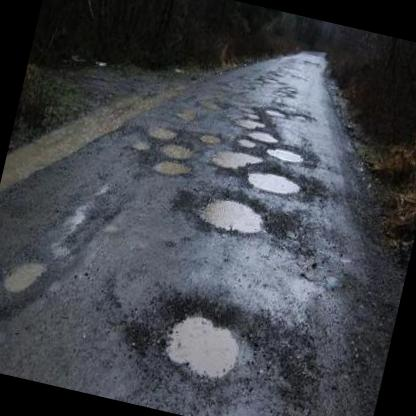pothole: (152, 292, 259, 386), (192, 187, 274, 242), (242, 162, 307, 201), (0, 251, 48, 297), (209, 142, 265, 178), (151, 154, 195, 182), (262, 140, 307, 166), (158, 140, 194, 162), (145, 121, 180, 142), (233, 114, 268, 132), (245, 127, 278, 145), (264, 104, 288, 118), (199, 130, 222, 144)
